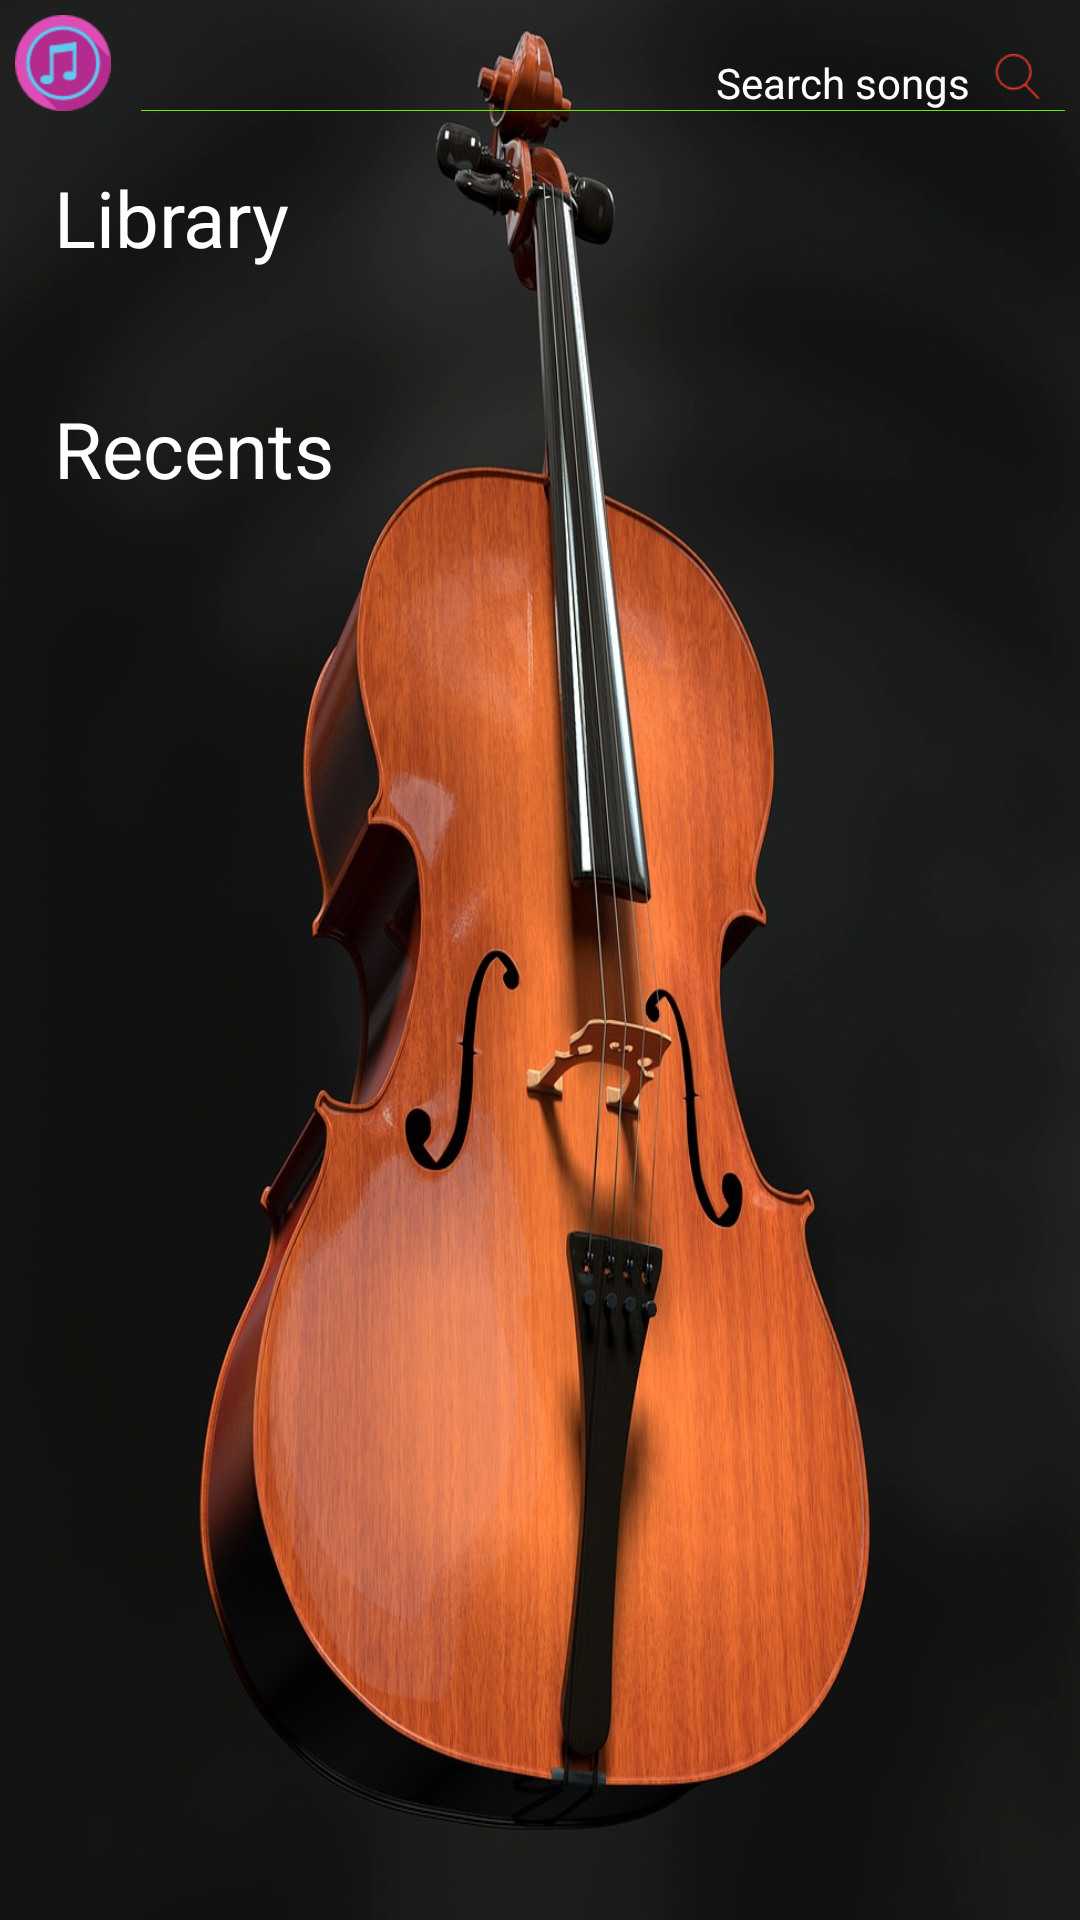

Icons on this 1080 × 1920 Android screen, each with its box as (x1, y1, x2, y2):
app: (15, 15, 111, 111)
